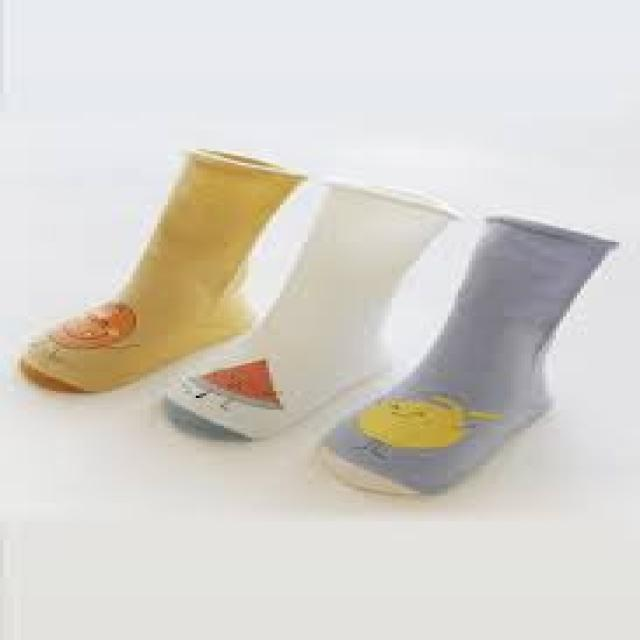sock: (315, 212, 619, 496), (161, 177, 462, 442), (17, 147, 308, 393)
